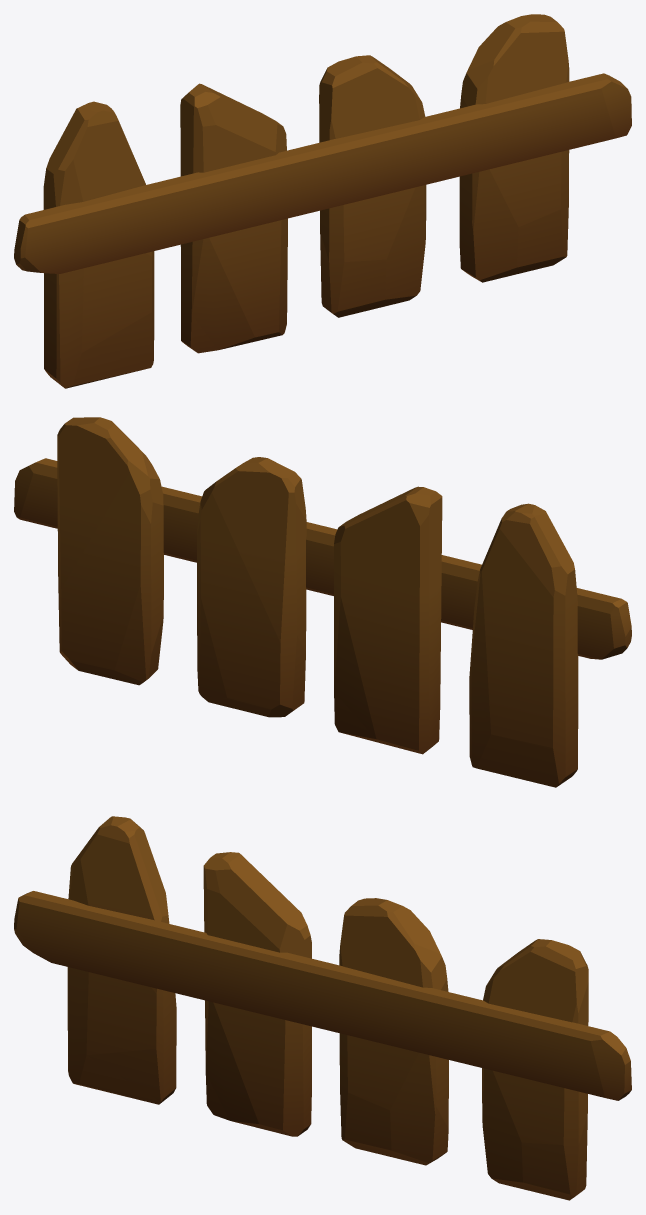
Rendered from WoodFence02.fbx.
3 views of the same model, one above another, from view 1: azimuth 30°, elevation 25°; view 2: azimuth 150°, elevation 25°; view 3: azimuth 330°, elevation 25° (orthographic).
Parts seen in each view (by area): view 1: LOD0; view 2: LOD0; view 3: LOD0.
Part boxes in pixels (left/top/right/bottom): LOD0: left=14, top=14, right=631, bottom=388; LOD0: left=14, top=417, right=631, bottom=787; LOD0: left=14, top=816, right=631, bottom=1200.
Size of what is drawn, in the model's own units: 368 by 27.18 by 153.
